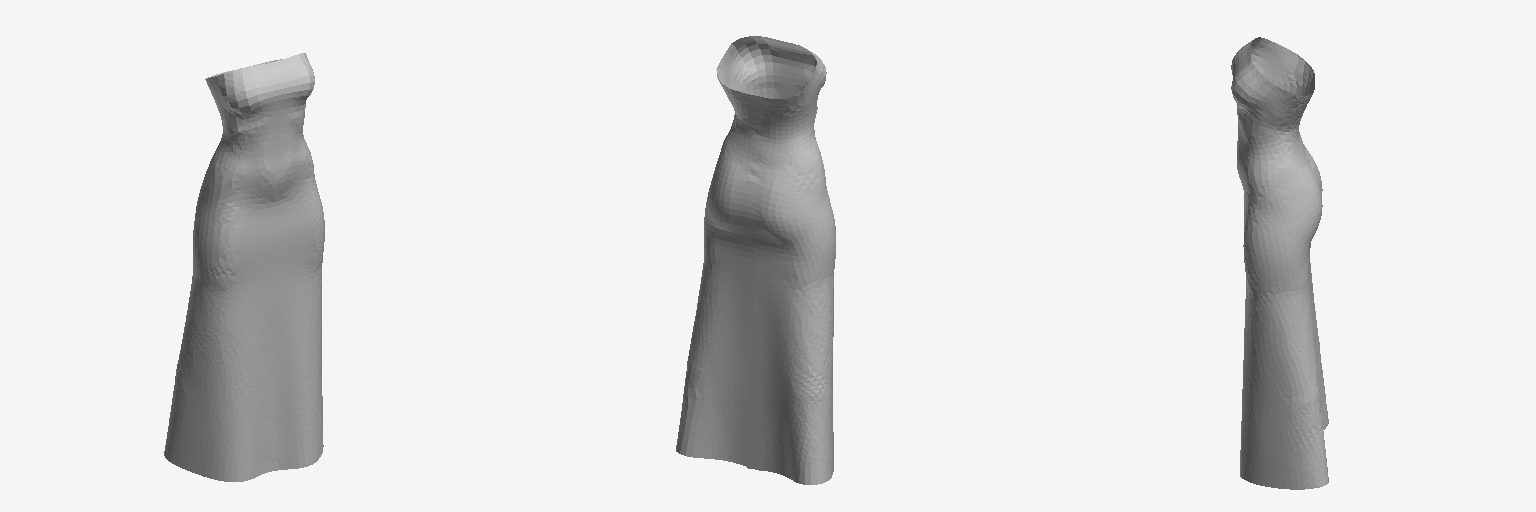
The model's file is dress.obj.
The picture shows the model from 3 angles: view 1: azimuth 30°, elevation 25°; view 2: azimuth 150°, elevation 25°; view 3: azimuth 270°, elevation 25°; orthographic projection.
Parts seen in each view (by area): view 1: long_dress_split; view 2: long_dress_split; view 3: long_dress_split.
Boxes of the visible parts, x1,y1,x2,y2 form: long_dress_split: [164, 53, 324, 481]; long_dress_split: [676, 36, 835, 484]; long_dress_split: [1231, 37, 1328, 489].
Bounding box in the file's own units: 49.91 × 132 × 28.66.